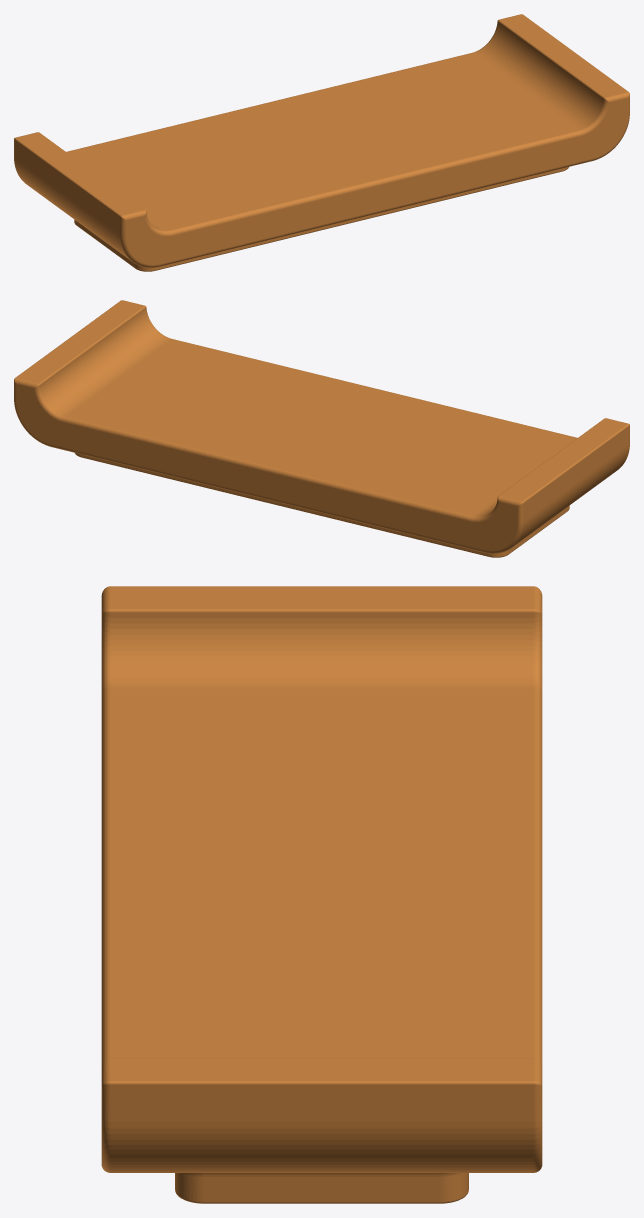
The model's file is pan.fbx.
3 renders of one model, top to bottom at view 1: azimuth 30°, elevation 25°; view 2: azimuth 150°, elevation 25°; view 3: azimuth 270°, elevation 25°, orthographic. The views are drawn at different scales.
Parts seen in each view (by area): view 1: pan; view 2: pan; view 3: pan.
Part boxes in pixels (left/top/right/bottom): pan: left=14, top=14, right=629, bottom=271; pan: left=14, top=300, right=629, bottom=557; pan: left=101, top=586, right=542, bottom=1203.
Size of the model in its own units: 4000 by 600 by 1500.
